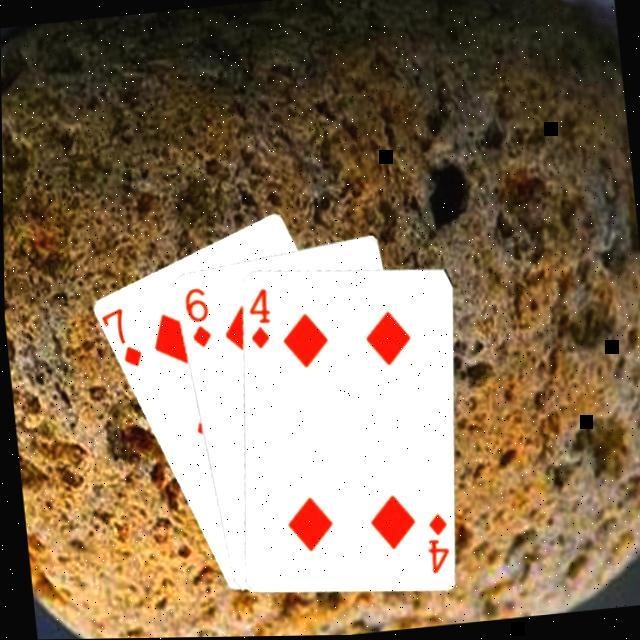4D: (418, 511, 454, 578), (241, 286, 276, 352)
6D: (178, 284, 214, 352)
7D: (98, 302, 146, 373)
